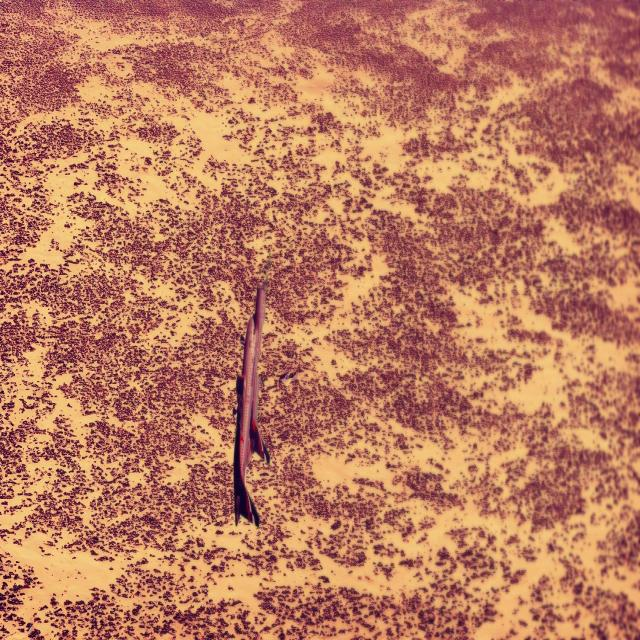airplane: (232, 284, 270, 528)
